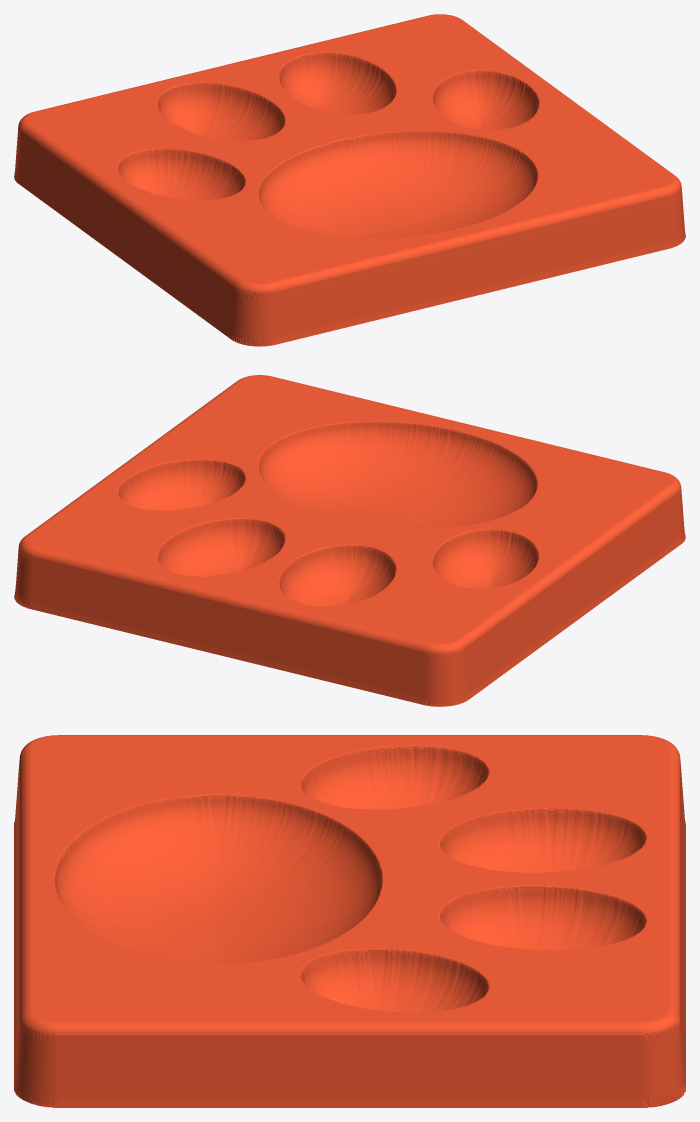
File: mold.glb
The picture shows the model from 3 angles, top to bottom: view 1: azimuth 30°, elevation 25°; view 2: azimuth 150°, elevation 25°; view 3: azimuth 270°, elevation 25°; orthographic projection. The views are drawn at different scales.
Visible parts, largest first — view 1: geometry_0; view 2: geometry_0; view 3: geometry_0.
Part boxes in pixels (left/top/right/bottom): geometry_0: left=14, top=14, right=685, bottom=346; geometry_0: left=14, top=375, right=685, bottom=706; geometry_0: left=14, top=735, right=685, bottom=1107.
Bounding box in the file's own units: 0.1435 × 0.0175 × 0.1356.
